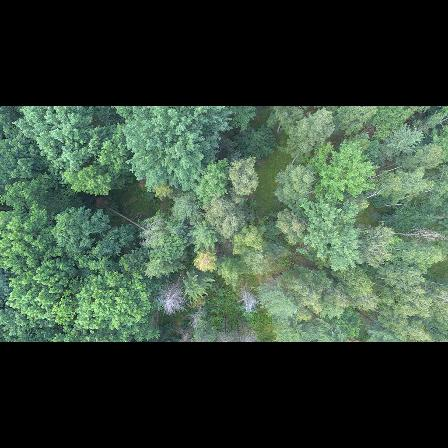Dead: (157, 266, 189, 319), (390, 224, 448, 244), (220, 313, 260, 342), (234, 279, 262, 313)
